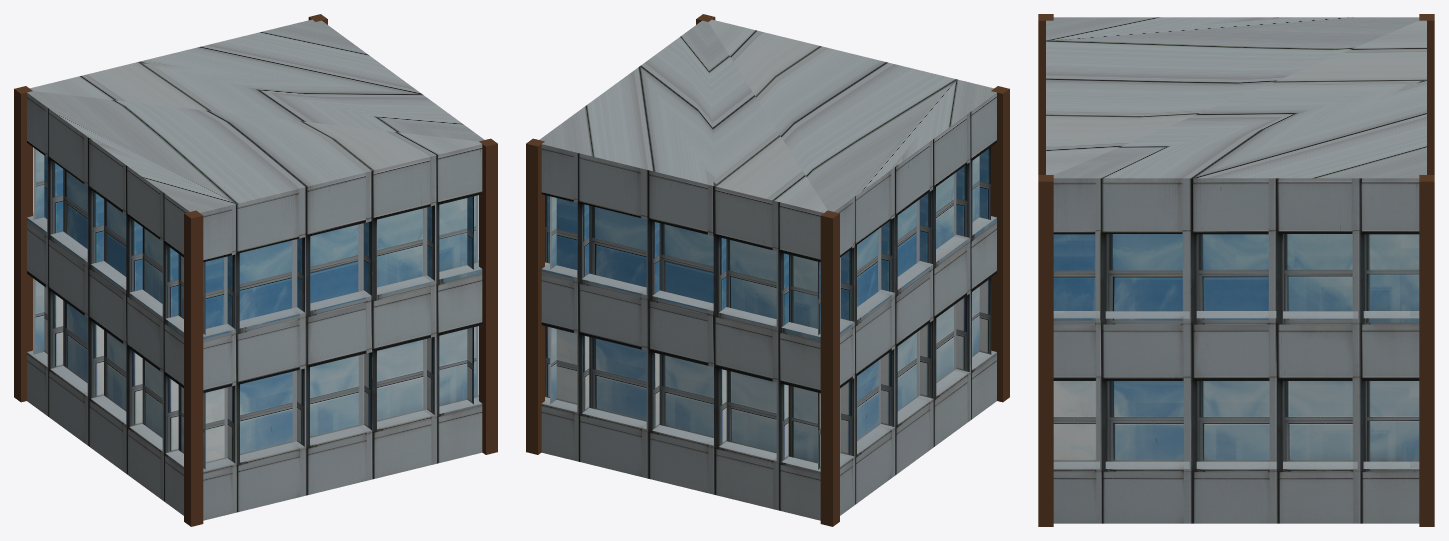
File: BG_Building2_small.fbx
3 renders of one model, left to right at view 1: azimuth 30°, elevation 25°; view 2: azimuth 150°, elevation 25°; view 3: azimuth 270°, elevation 25°, orthographic. The views are drawn at different scales.
Visible parts, largest first — view 1: BG_Building2_small; view 2: BG_Building2_small; view 3: BG_Building2_small.
Part boxes in pixels (x1=…): BG_Building2_small: x1=14, y1=14, x2=497, y2=526; BG_Building2_small: x1=526, y1=14, x2=1009, y2=526; BG_Building2_small: x1=1038, y1=14, x2=1434, y2=526.
Bounding box in the file's own units: 415 × 399 × 415.
